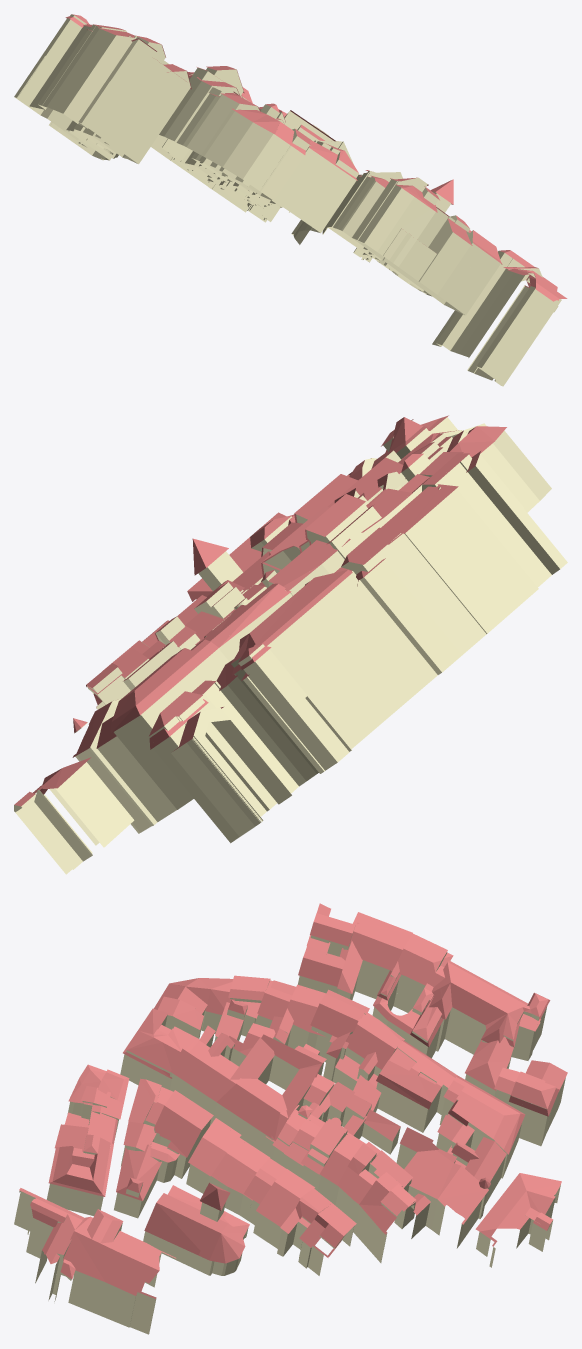
Rendered from tile_036.glb.
3 views of the same model, one above another, from view 1: azimuth 30°, elevation 25°; view 2: azimuth 150°, elevation 25°; view 3: azimuth 270°, elevation 25° (orthographic). The views are drawn at different scales.
Parts seen in each view (by area): view 1: Batched_Building_ID_8E84BFA8-63A7-41B7-BF1E-1F5028BC9A7D, Batched_Building_ID_688BA7CC-43CC-4638-AB58-6C5D5C4973DF; view 2: Batched_Building_ID_8E84BFA8-63A7-41B7-BF1E-1F5028BC9A7D, Batched_Building_ID_688BA7CC-43CC-4638-AB58-6C5D5C4973DF; view 3: Batched_Building_ID_688BA7CC-43CC-4638-AB58-6C5D5C4973DF, Batched_Building_ID_8E84BFA8-63A7-41B7-BF1E-1F5028BC9A7D.
Part boxes in pixels (x1,y1,x2,y2): Batched_Building_ID_8E84BFA8-63A7-41B7-BF1E-1F5028BC9A7D: (14,14,561,386); Batched_Building_ID_688BA7CC-43CC-4638-AB58-6C5D5C4973DF: (65,14,567,301); Batched_Building_ID_8E84BFA8-63A7-41B7-BF1E-1F5028BC9A7D: (14,417,567,874); Batched_Building_ID_688BA7CC-43CC-4638-AB58-6C5D5C4973DF: (14,415,506,806); Batched_Building_ID_688BA7CC-43CC-4638-AB58-6C5D5C4973DF: (19,903,567,1298); Batched_Building_ID_8E84BFA8-63A7-41B7-BF1E-1F5028BC9A7D: (14,933,565,1334).
Size of the model in its own units: 134 by 115 by 183.
